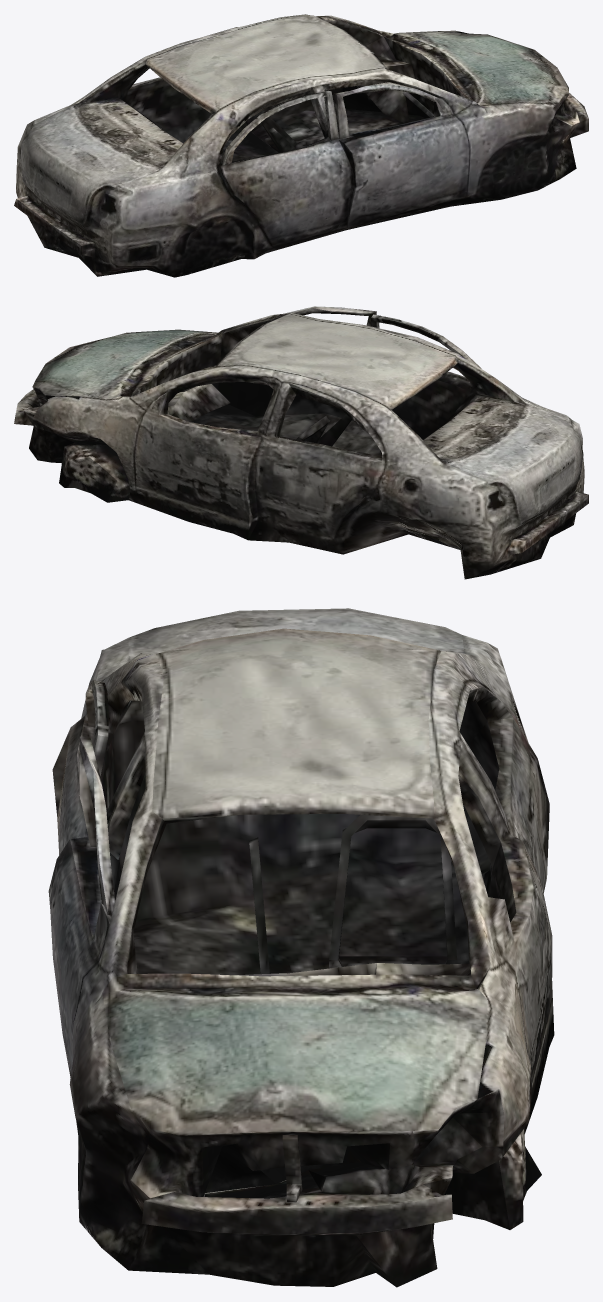
Rendered from veh_wreck_car_b.glb.
3 renders of one model, top to bottom at view 1: azimuth 30°, elevation 25°; view 2: azimuth 150°, elevation 25°; view 3: azimuth 270°, elevation 25°, orthographic. The views are drawn at different scales.
Parts seen in each view (by area): view 1: default002_Material #26_0; view 2: default002_Material #26_0; view 3: default002_Material #26_0.
Part boxes in pixels (<box>): default002_Material #26_0: <box>14,14,588,277</box>; default002_Material #26_0: <box>14,306,588,579</box>; default002_Material #26_0: <box>48,608,554,1287</box>.
Bounding box in the file's own units: 4.3 × 1.2 × 1.83.
1 material, 1 textured.
